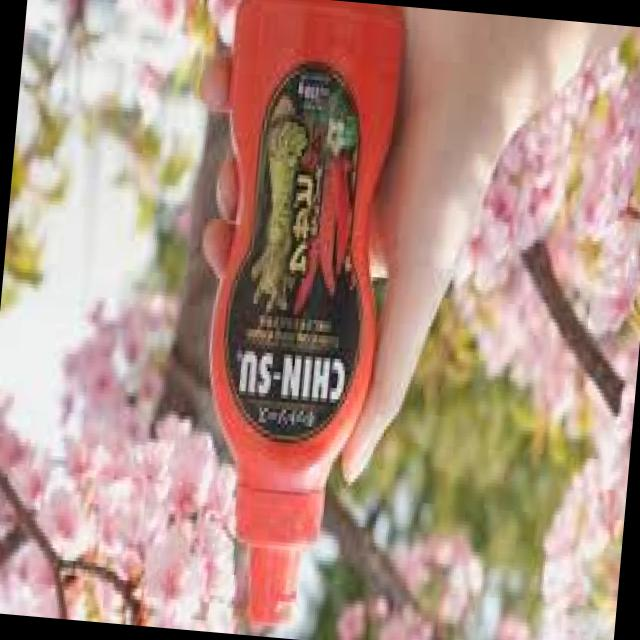tuong ot chinsu: (175, 0, 427, 640)
